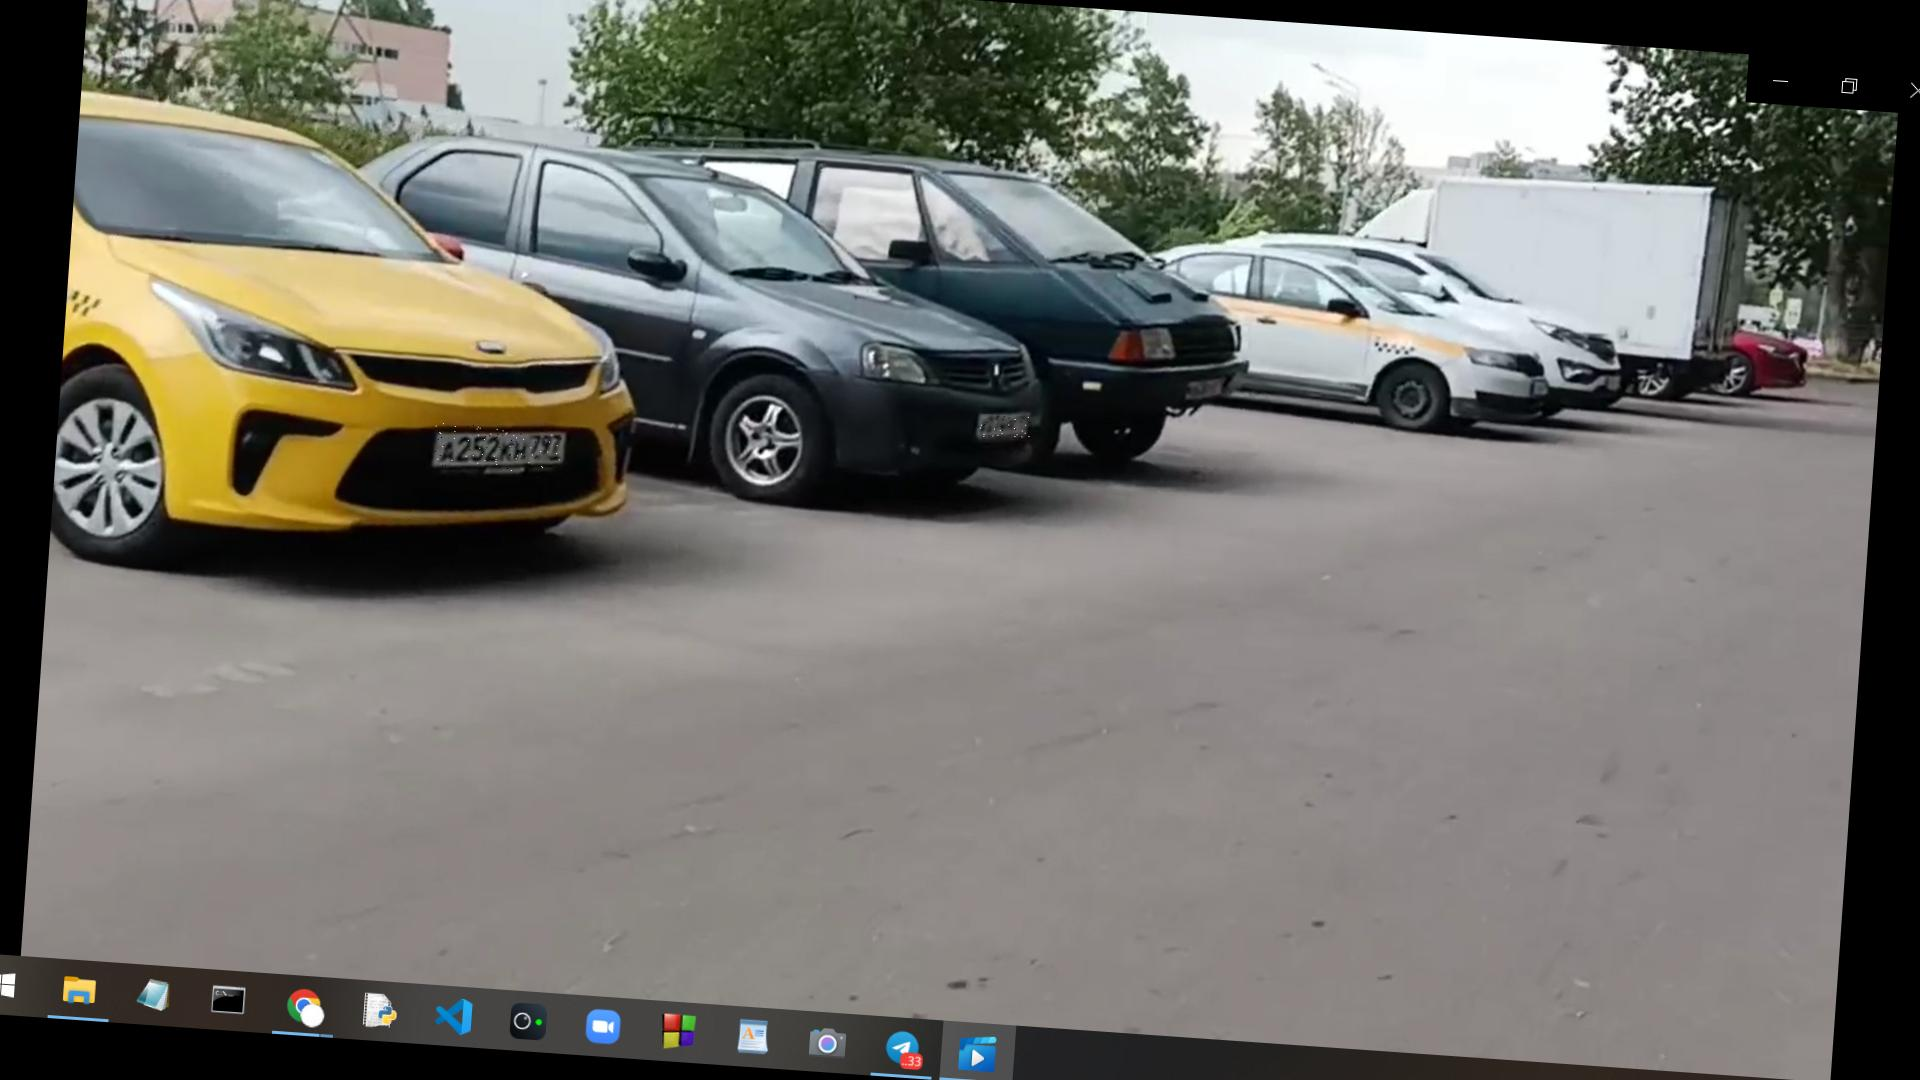plate: (433, 424, 564, 476), (976, 415, 1035, 442)
